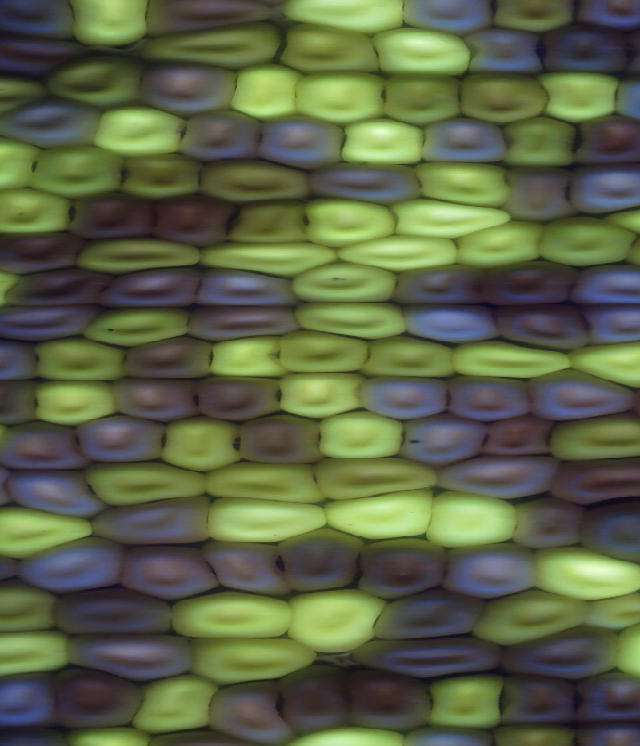fluorescent: (159, 583, 302, 648), (180, 629, 325, 692), (136, 16, 295, 72), (198, 451, 334, 513), (468, 584, 596, 649), (283, 582, 388, 660), (80, 453, 216, 513), (199, 491, 334, 550), (191, 233, 346, 284), (192, 152, 327, 209), (526, 540, 640, 607), (421, 484, 529, 554), (320, 483, 441, 544), (385, 194, 519, 248), (39, 49, 152, 113), (306, 451, 446, 502), (287, 292, 417, 346), (126, 669, 227, 738), (289, 65, 395, 130), (22, 140, 128, 205), (275, 17, 386, 78), (365, 21, 474, 83), (525, 61, 625, 128), (309, 401, 411, 466), (458, 66, 561, 130), (87, 100, 193, 162), (150, 410, 251, 475), (296, 192, 408, 250), (0, 499, 101, 563), (408, 155, 522, 211), (445, 215, 554, 273), (75, 231, 212, 277), (445, 335, 576, 383), (375, 64, 466, 133), (423, 665, 511, 735), (27, 332, 135, 389), (22, 372, 126, 431), (335, 231, 468, 277), (285, 258, 407, 308), (533, 212, 640, 269), (275, 324, 378, 383), (221, 58, 309, 126), (111, 147, 212, 206), (358, 331, 466, 386), (80, 303, 200, 351), (267, 367, 369, 423), (546, 408, 640, 467), (500, 110, 585, 174), (273, 1, 416, 39), (219, 195, 317, 249), (0, 625, 82, 689), (204, 331, 295, 385), (333, 115, 427, 166), (65, 1, 155, 54), (0, 181, 81, 239), (0, 574, 70, 641), (562, 335, 640, 394), (488, 1, 584, 38), (0, 132, 50, 196), (582, 587, 640, 641), (0, 66, 52, 122), (602, 613, 640, 687), (604, 198, 640, 241)
nonfluorescent: (82, 490, 223, 553), (61, 628, 207, 686), (496, 620, 628, 684), (14, 532, 134, 602), (367, 580, 491, 647), (353, 632, 511, 684), (339, 659, 440, 739), (47, 579, 180, 639), (47, 660, 153, 735), (348, 531, 456, 604), (115, 539, 227, 608), (135, 53, 248, 120), (434, 449, 564, 507), (200, 532, 300, 607), (518, 364, 640, 424), (438, 539, 547, 605), (305, 156, 432, 212), (273, 525, 370, 598), (0, 463, 114, 524), (0, 91, 108, 154), (272, 659, 356, 740), (168, 102, 274, 166), (189, 260, 315, 313), (252, 109, 353, 175), (138, 1, 285, 45), (203, 675, 294, 746), (536, 19, 640, 81), (474, 256, 590, 311), (352, 368, 459, 427), (105, 373, 216, 429), (232, 408, 330, 471), (491, 297, 597, 355), (189, 369, 292, 428), (417, 112, 518, 172), (462, 23, 556, 87), (497, 159, 584, 228), (71, 411, 174, 468), (440, 369, 544, 425), (64, 187, 162, 246), (182, 298, 305, 345), (397, 299, 508, 351), (151, 189, 241, 253), (393, 409, 489, 469), (94, 264, 209, 314), (505, 493, 596, 554), (497, 666, 585, 729), (120, 334, 223, 387), (0, 417, 94, 475), (543, 453, 640, 509), (388, 259, 492, 311), (4, 262, 117, 309), (0, 24, 90, 83), (0, 668, 69, 739), (556, 159, 640, 217), (575, 494, 640, 568), (0, 226, 86, 279), (0, 301, 101, 345), (569, 669, 640, 729), (566, 109, 640, 166), (476, 410, 556, 462), (397, 1, 503, 40), (566, 259, 640, 309), (0, 1, 81, 44), (575, 300, 640, 346), (0, 332, 47, 389), (568, 1, 640, 36), (0, 374, 46, 428), (609, 71, 640, 127)
